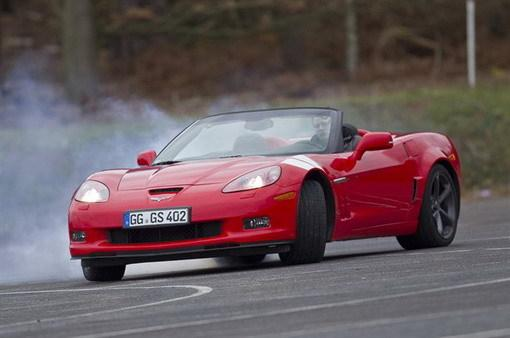car: (37, 96, 477, 292)
